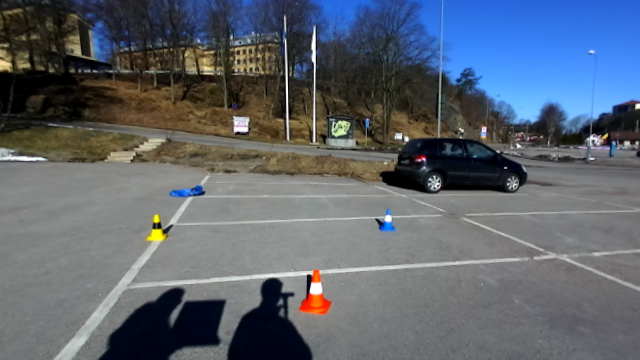blue: (379, 206, 396, 232)
orange: (299, 268, 333, 317)
yellow: (144, 212, 169, 242)
